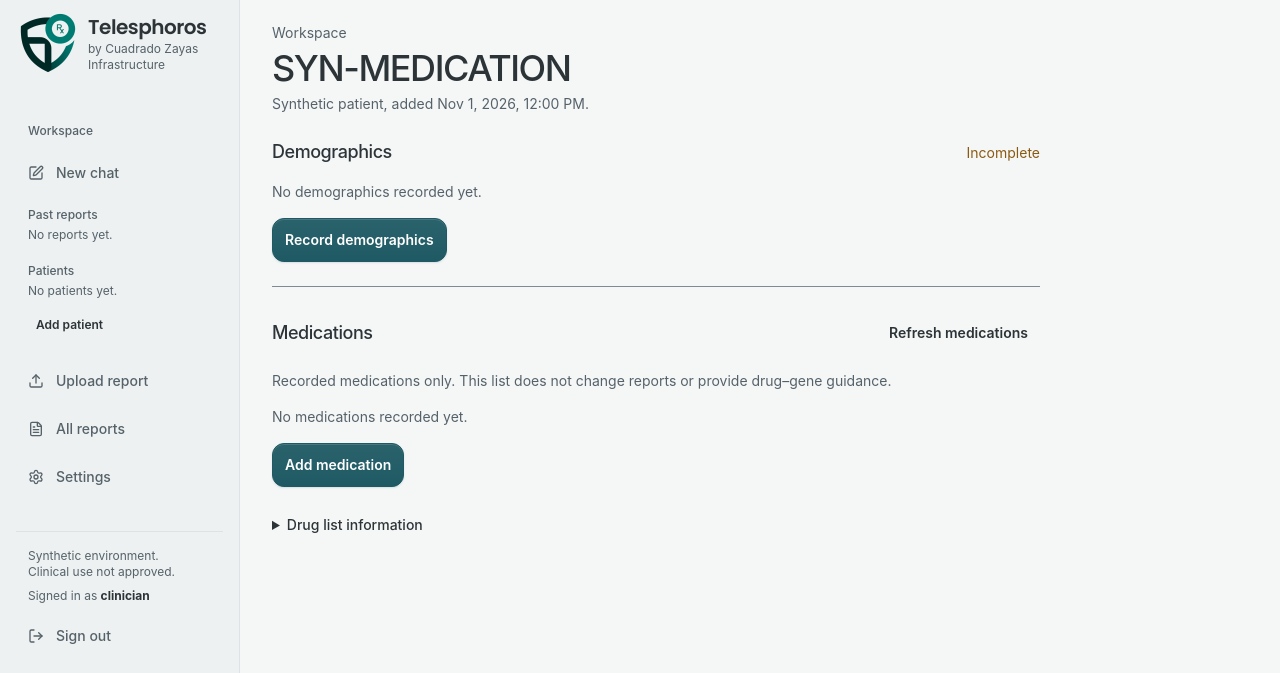
Test: patient medication capture › clears a chosen code when its search text changes and does not choose on Escape
Check: the text "No medications recorded yet." is shown, box x1=272 y1=408 x2=468 y2=425
Click the button "Add medication" at (338, 465), box x1=272 y1=443 x2=404 y2=487
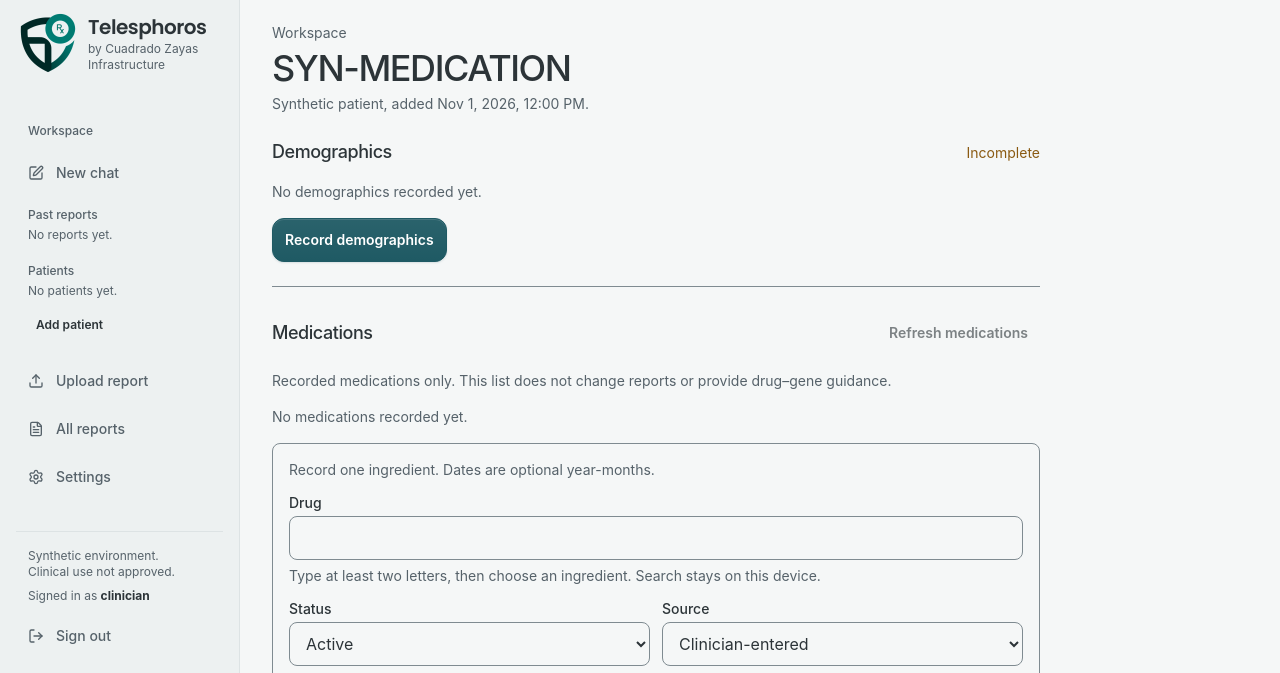
Type "hydralaz" into the dropdown labelled "Drug" at (656, 538), box x1=289 y1=516 x2=1023 y2=560
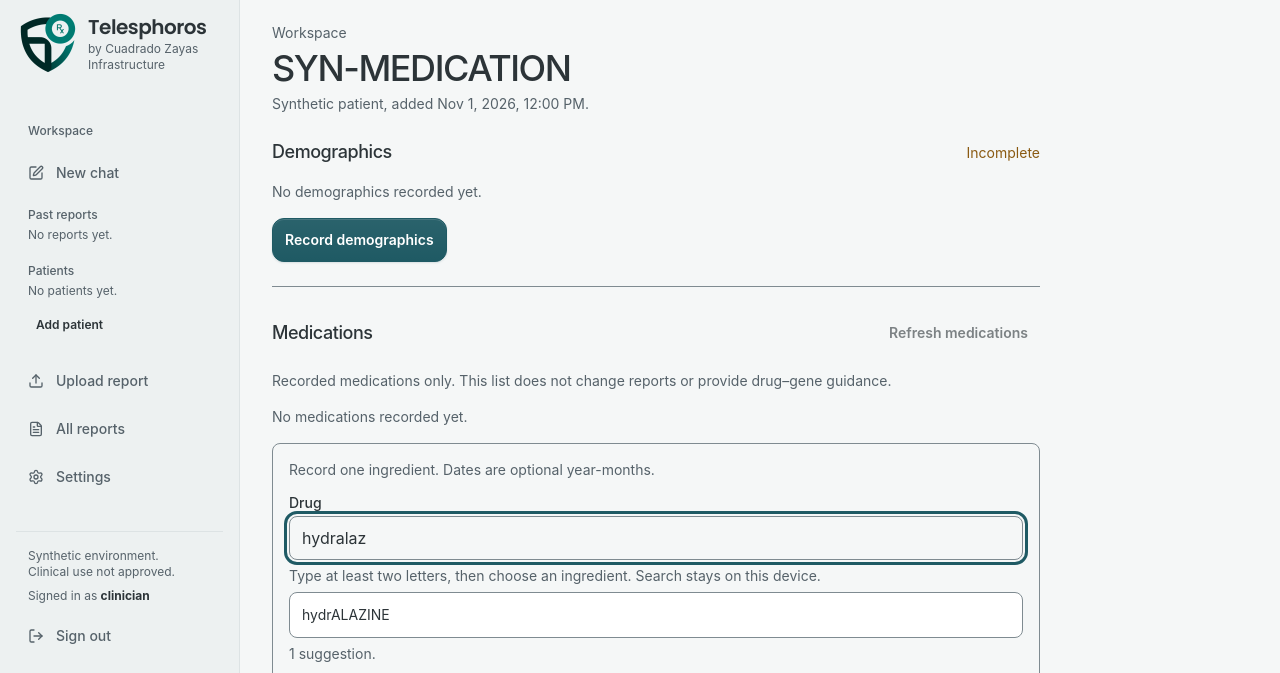
Click the option "hydrALAZINE" at (346, 615), box x1=302 y1=606 x2=390 y2=623
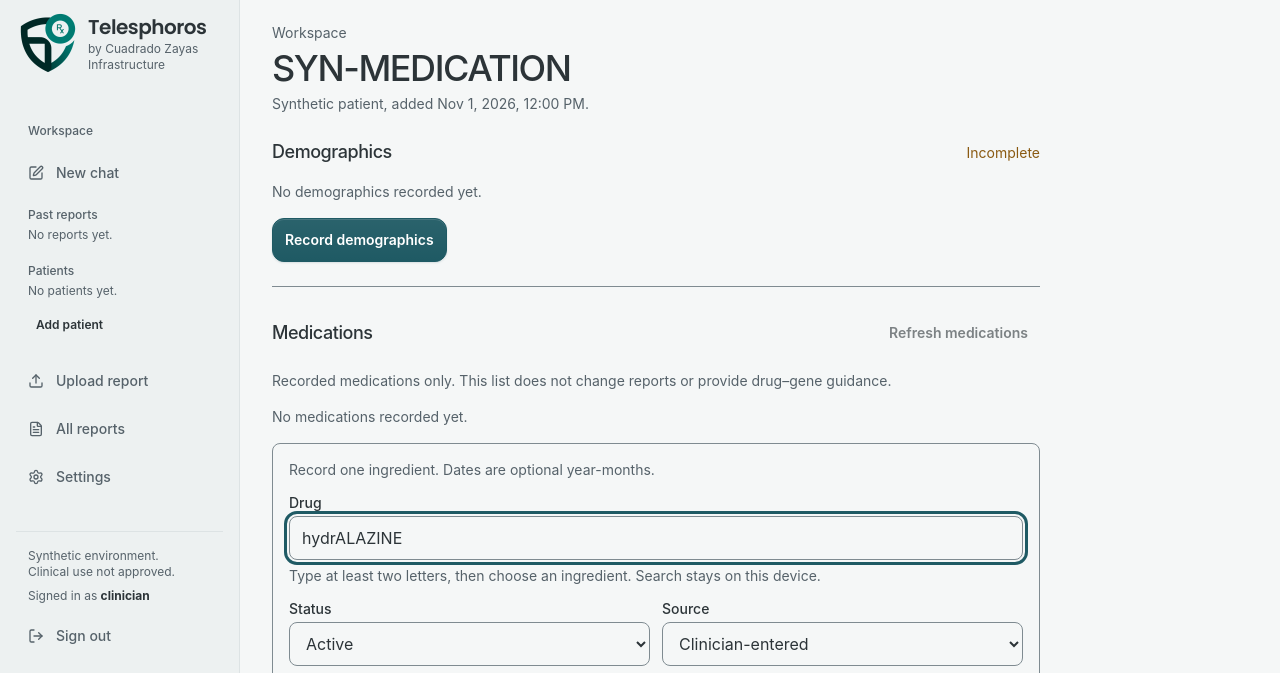
Replace the text in the dropdown labelled "Drug" with "codeine" at (656, 538), box x1=289 y1=516 x2=1023 y2=560
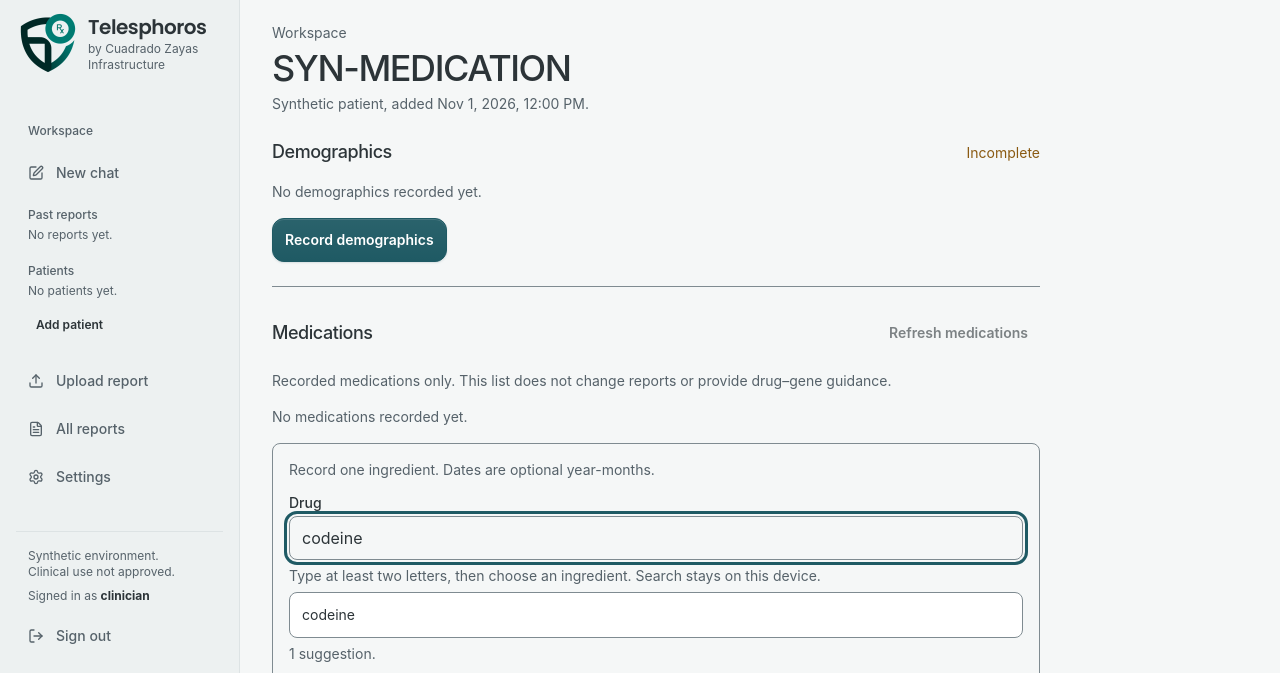
Press Escape
(page scrolled)
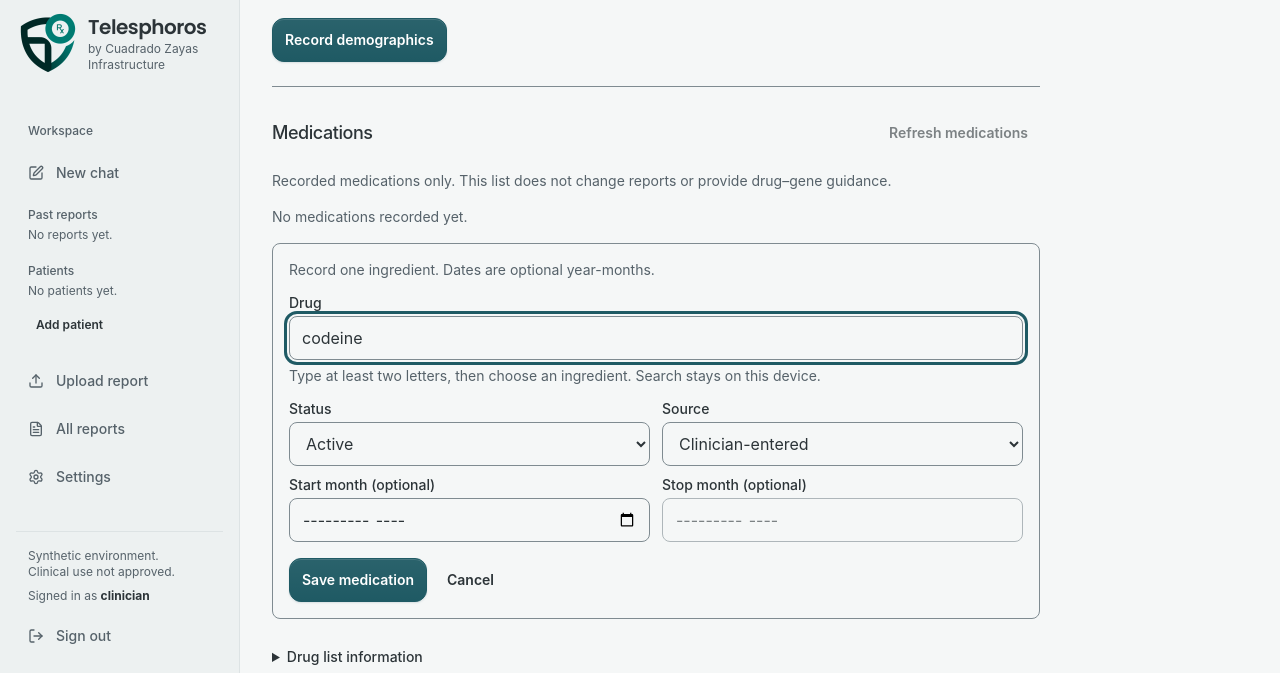
Click the button "Save medication" at (358, 580), box x1=289 y1=558 x2=427 y2=602
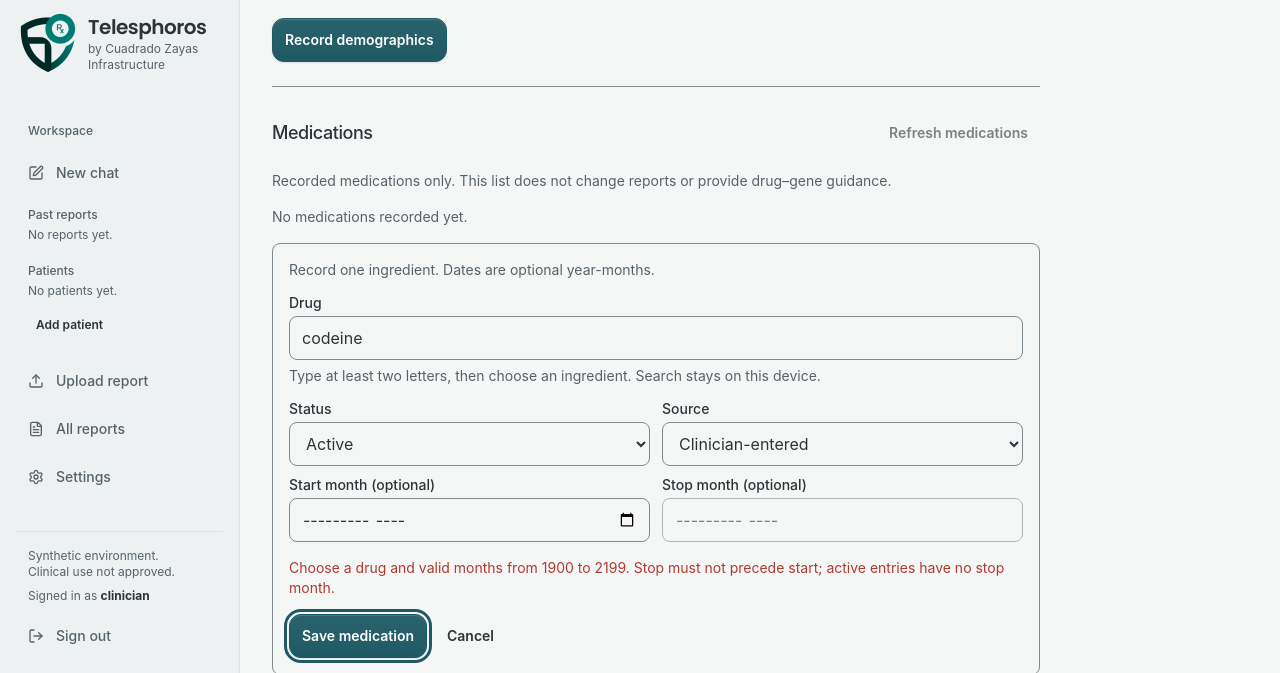
Check: the message shows "Choose a drug", box x1=289 y1=559 x2=1004 y2=596
